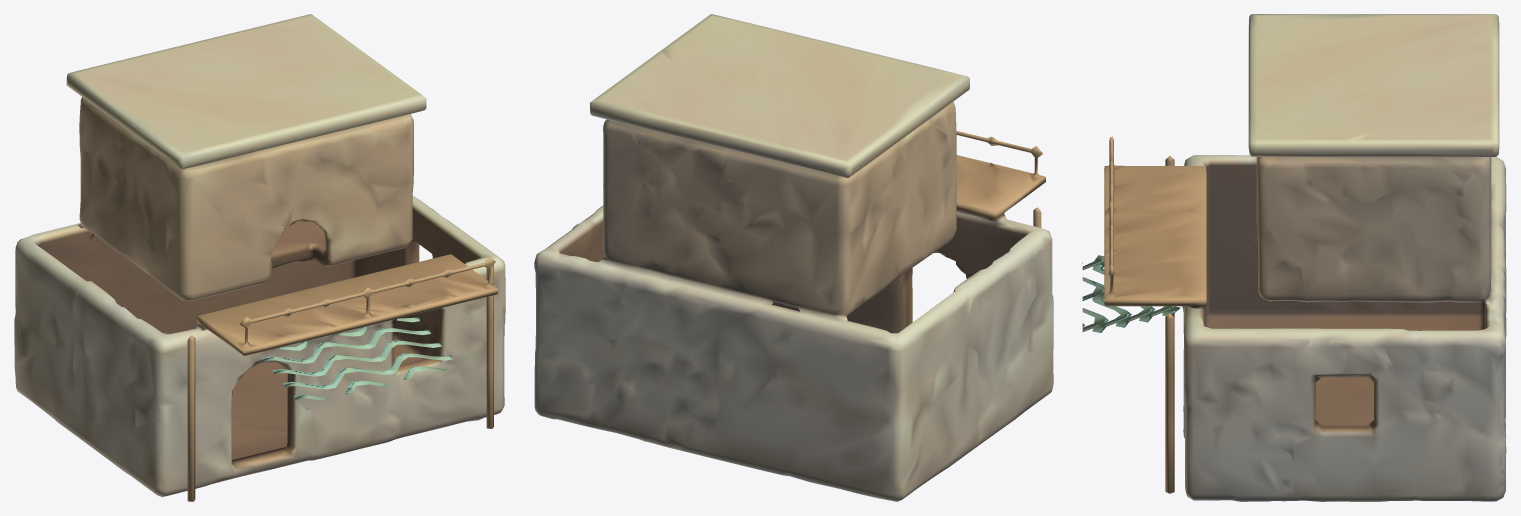
The model's file is env_se_house_b.glb.
3 views of the same model, side by side, from view 1: azimuth 30°, elevation 25°; view 2: azimuth 150°, elevation 25°; view 3: azimuth 270°, elevation 25° (orthographic). The views are drawn at different scales.
Parts seen in each view (by area): view 1: geometry_0; view 2: geometry_0; view 3: geometry_0.
Boxes of the visible parts, <box> form: geometry_0: <box>14,14,505,501</box>; geometry_0: <box>534,14,1053,501</box>; geometry_0: <box>1082,14,1506,501</box>.
Bounding box in the file's own units: 7.54 × 6.35 × 7.27.
